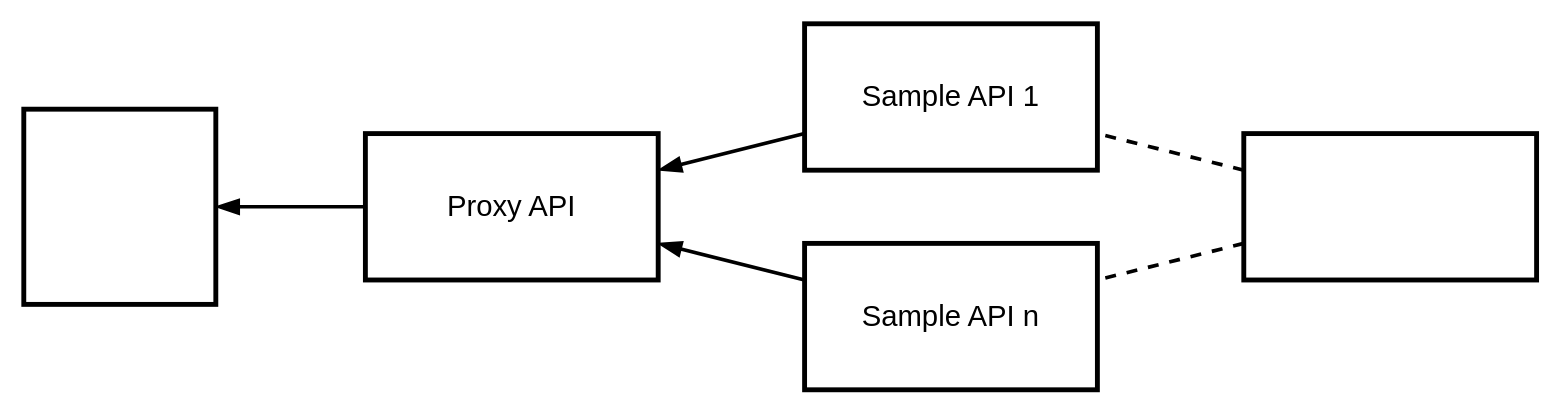
This 1559x412 diagram has some shape labels left out. Each missing label, with the box of its shape:
SDK: (1241, 131, 1538, 282)
UI: (21, 106, 218, 306)
